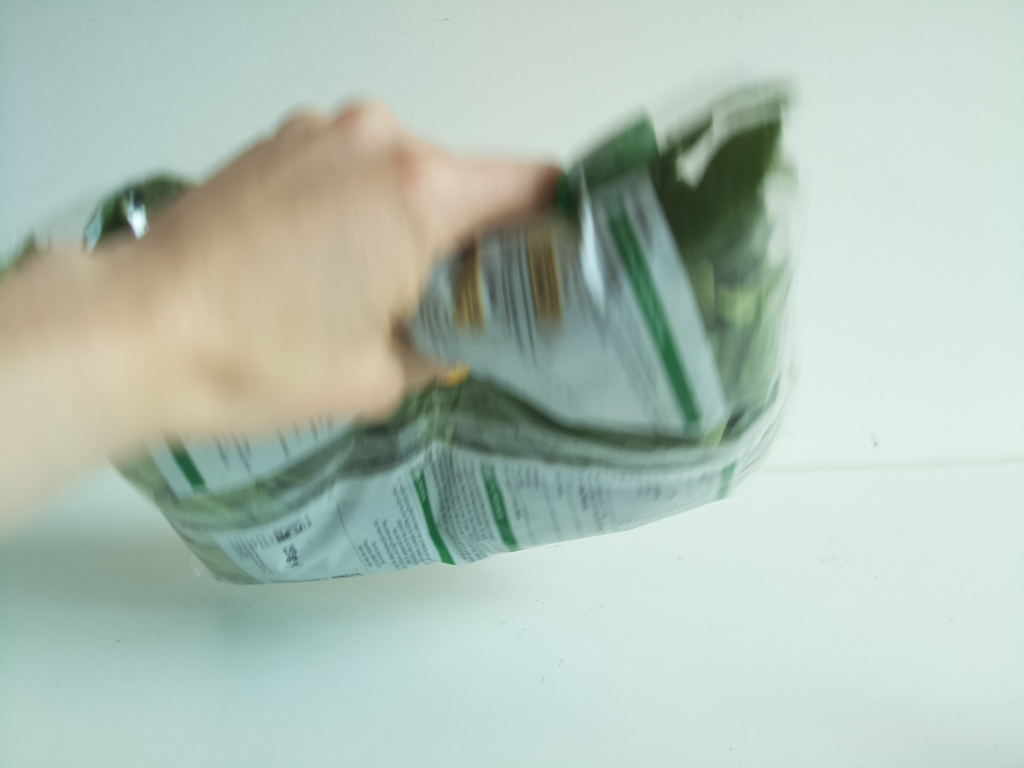salad: (17, 77, 808, 587)
